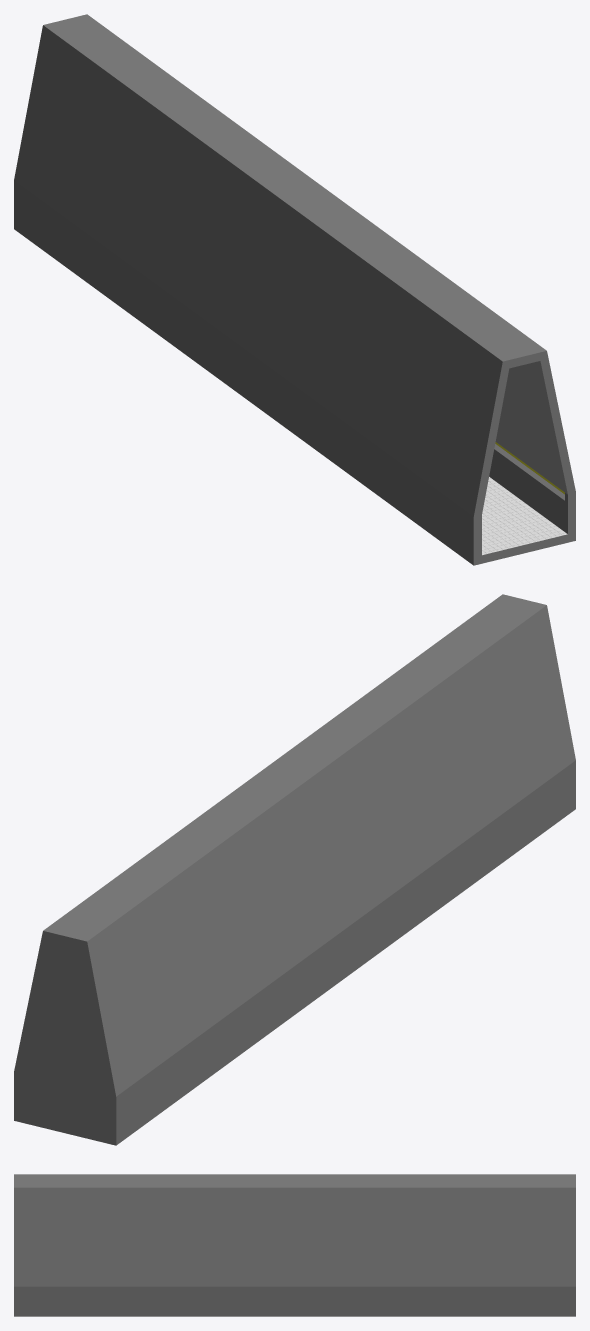
Rendered from DustCityTunnelEntry.fbx.
3 views of the same model, one above another, from view 1: azimuth 30°, elevation 25°; view 2: azimuth 150°, elevation 25°; view 3: azimuth 270°, elevation 25° (orthographic). The views are drawn at different scales.
Parts seen in each view (by area): view 1: DustCityTunnelEntry; view 2: DustCityTunnelEntry; view 3: DustCityTunnelEntry.
Part boxes in pixels (bbox=[...]): DustCityTunnelEntry: bbox=[14, 14, 575, 565]; DustCityTunnelEntry: bbox=[14, 594, 575, 1145]; DustCityTunnelEntry: bbox=[14, 1174, 575, 1316].
Bounding box in the file's own units: 42.56 × 332 × 78.41.
